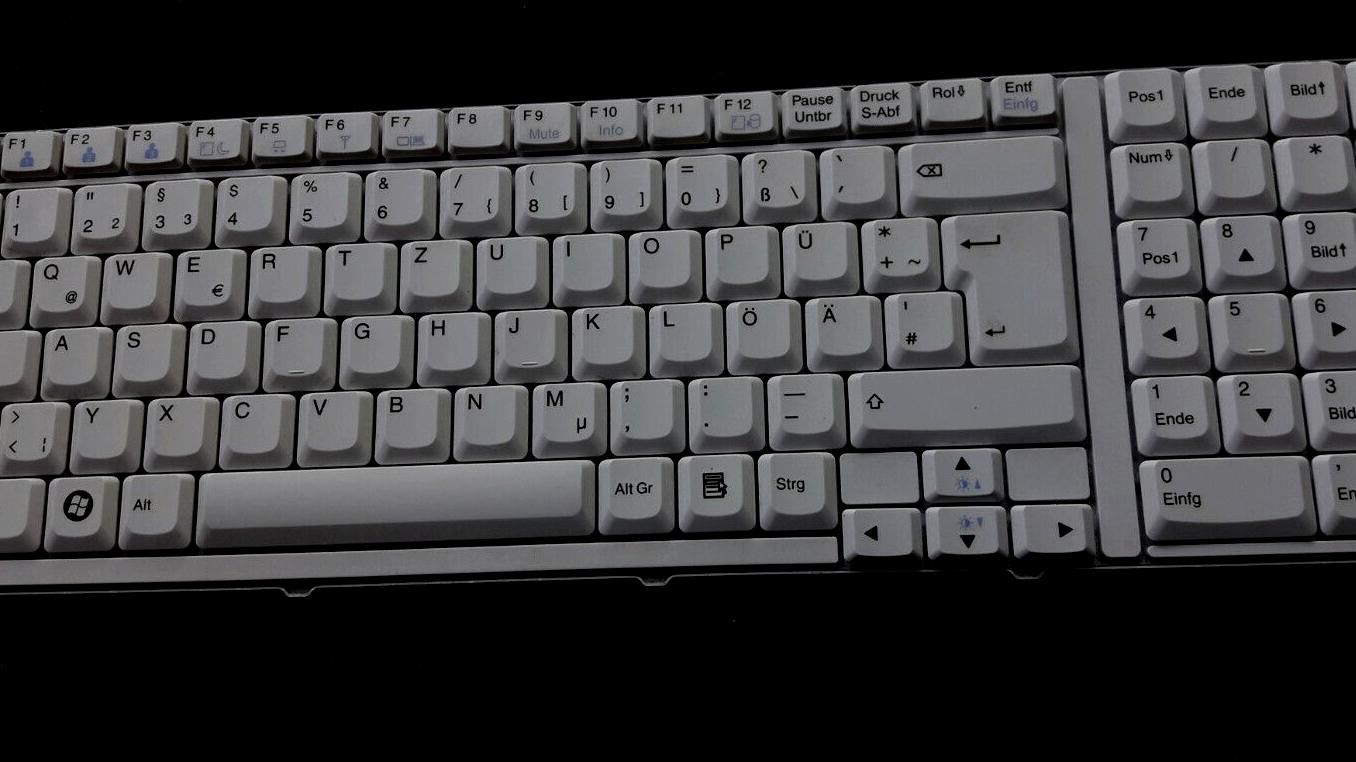0: (661, 147, 732, 219)
1: (1, 182, 59, 244)
2: (70, 177, 133, 244)
3: (139, 171, 206, 243)
4: (213, 169, 276, 233)
5: (286, 166, 351, 232)
6: (361, 163, 425, 227)
7: (437, 160, 503, 225)
8: (511, 157, 579, 225)
9: (586, 151, 656, 224)
a: (42, 323, 101, 384)
accent: (816, 139, 885, 206)
ae: (804, 291, 874, 355)
alt-left: (116, 467, 185, 542)
altgr-right: (595, 452, 670, 527)
b: (374, 384, 441, 449)
c: (218, 389, 285, 453)
caret: (1, 187, 30, 247)
comma: (607, 374, 677, 443)
d: (187, 316, 249, 379)
del: (896, 129, 1056, 201)
e: (173, 244, 244, 313)
enter: (935, 205, 1072, 354)
f: (264, 314, 325, 376)
g: (340, 311, 402, 373)
h: (418, 309, 481, 370)
hash: (882, 286, 957, 361)
i: (554, 229, 615, 289)
j: (494, 305, 558, 368)
k: (574, 302, 637, 364)
keyboard: (1, 44, 1356, 614)
l: (651, 298, 713, 361)
less: (1, 396, 66, 467)
m: (531, 377, 602, 448)
minus: (764, 369, 838, 437)
n: (453, 381, 519, 445)
o: (626, 225, 693, 287)
oe: (725, 295, 792, 358)
p: (703, 221, 771, 283)
plus: (859, 211, 933, 282)
point: (686, 372, 757, 438)
q: (27, 251, 96, 318)
r: (248, 242, 312, 302)
s: (113, 319, 173, 381)
shift-left: (1, 400, 42, 464)
shift-lock: (1, 327, 58, 388)
shift-right: (845, 360, 1080, 434)
space: (193, 456, 592, 537)
ss: (736, 142, 809, 214)
strg-left: (1, 474, 38, 545)
strg-right: (754, 446, 831, 519)
t: (325, 238, 386, 300)
tab: (1, 255, 47, 317)
u: (475, 232, 539, 294)
ue: (780, 216, 850, 282)
v: (297, 386, 361, 451)
w: (102, 248, 161, 308)
x: (143, 392, 207, 455)
y: (72, 395, 132, 458)
z: (399, 236, 462, 297)
